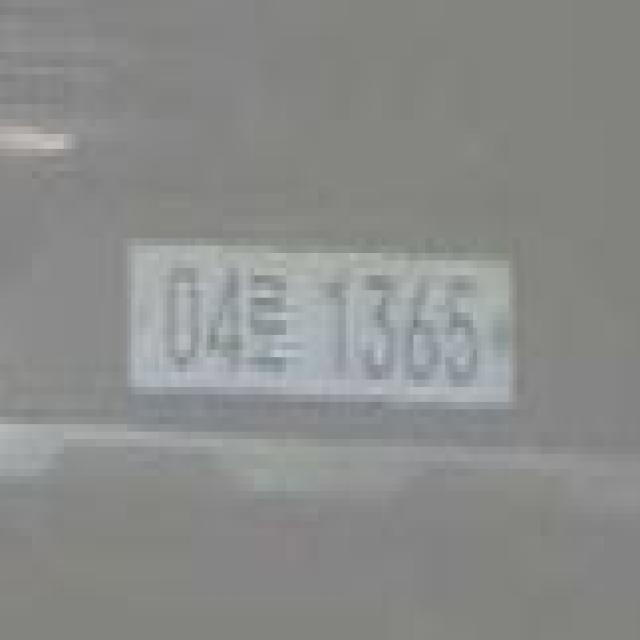illegal_plate: (117, 229, 527, 433)
